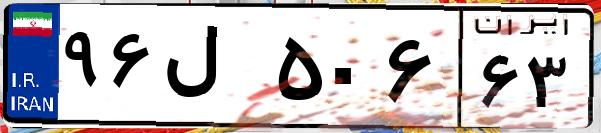0: (330, 28, 385, 110)
3: (525, 38, 570, 115)
5: (270, 28, 330, 110)
6: (385, 28, 445, 110), (475, 38, 525, 113), (110, 28, 158, 98)
9: (57, 26, 110, 100)
ل: (158, 20, 270, 120)
